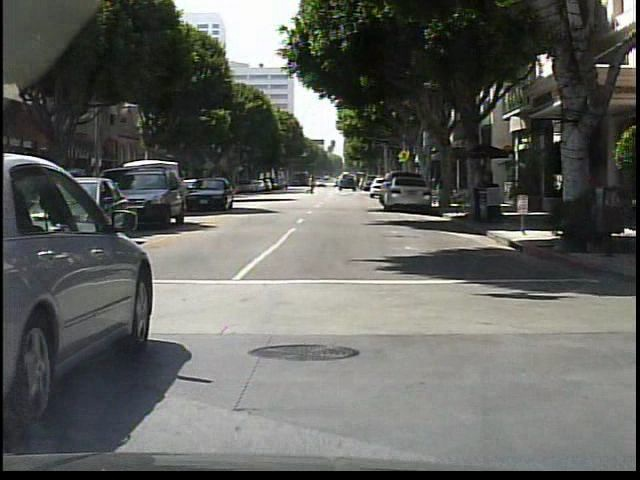person: (579, 167, 596, 238), (475, 164, 493, 222), (308, 177, 318, 197)
